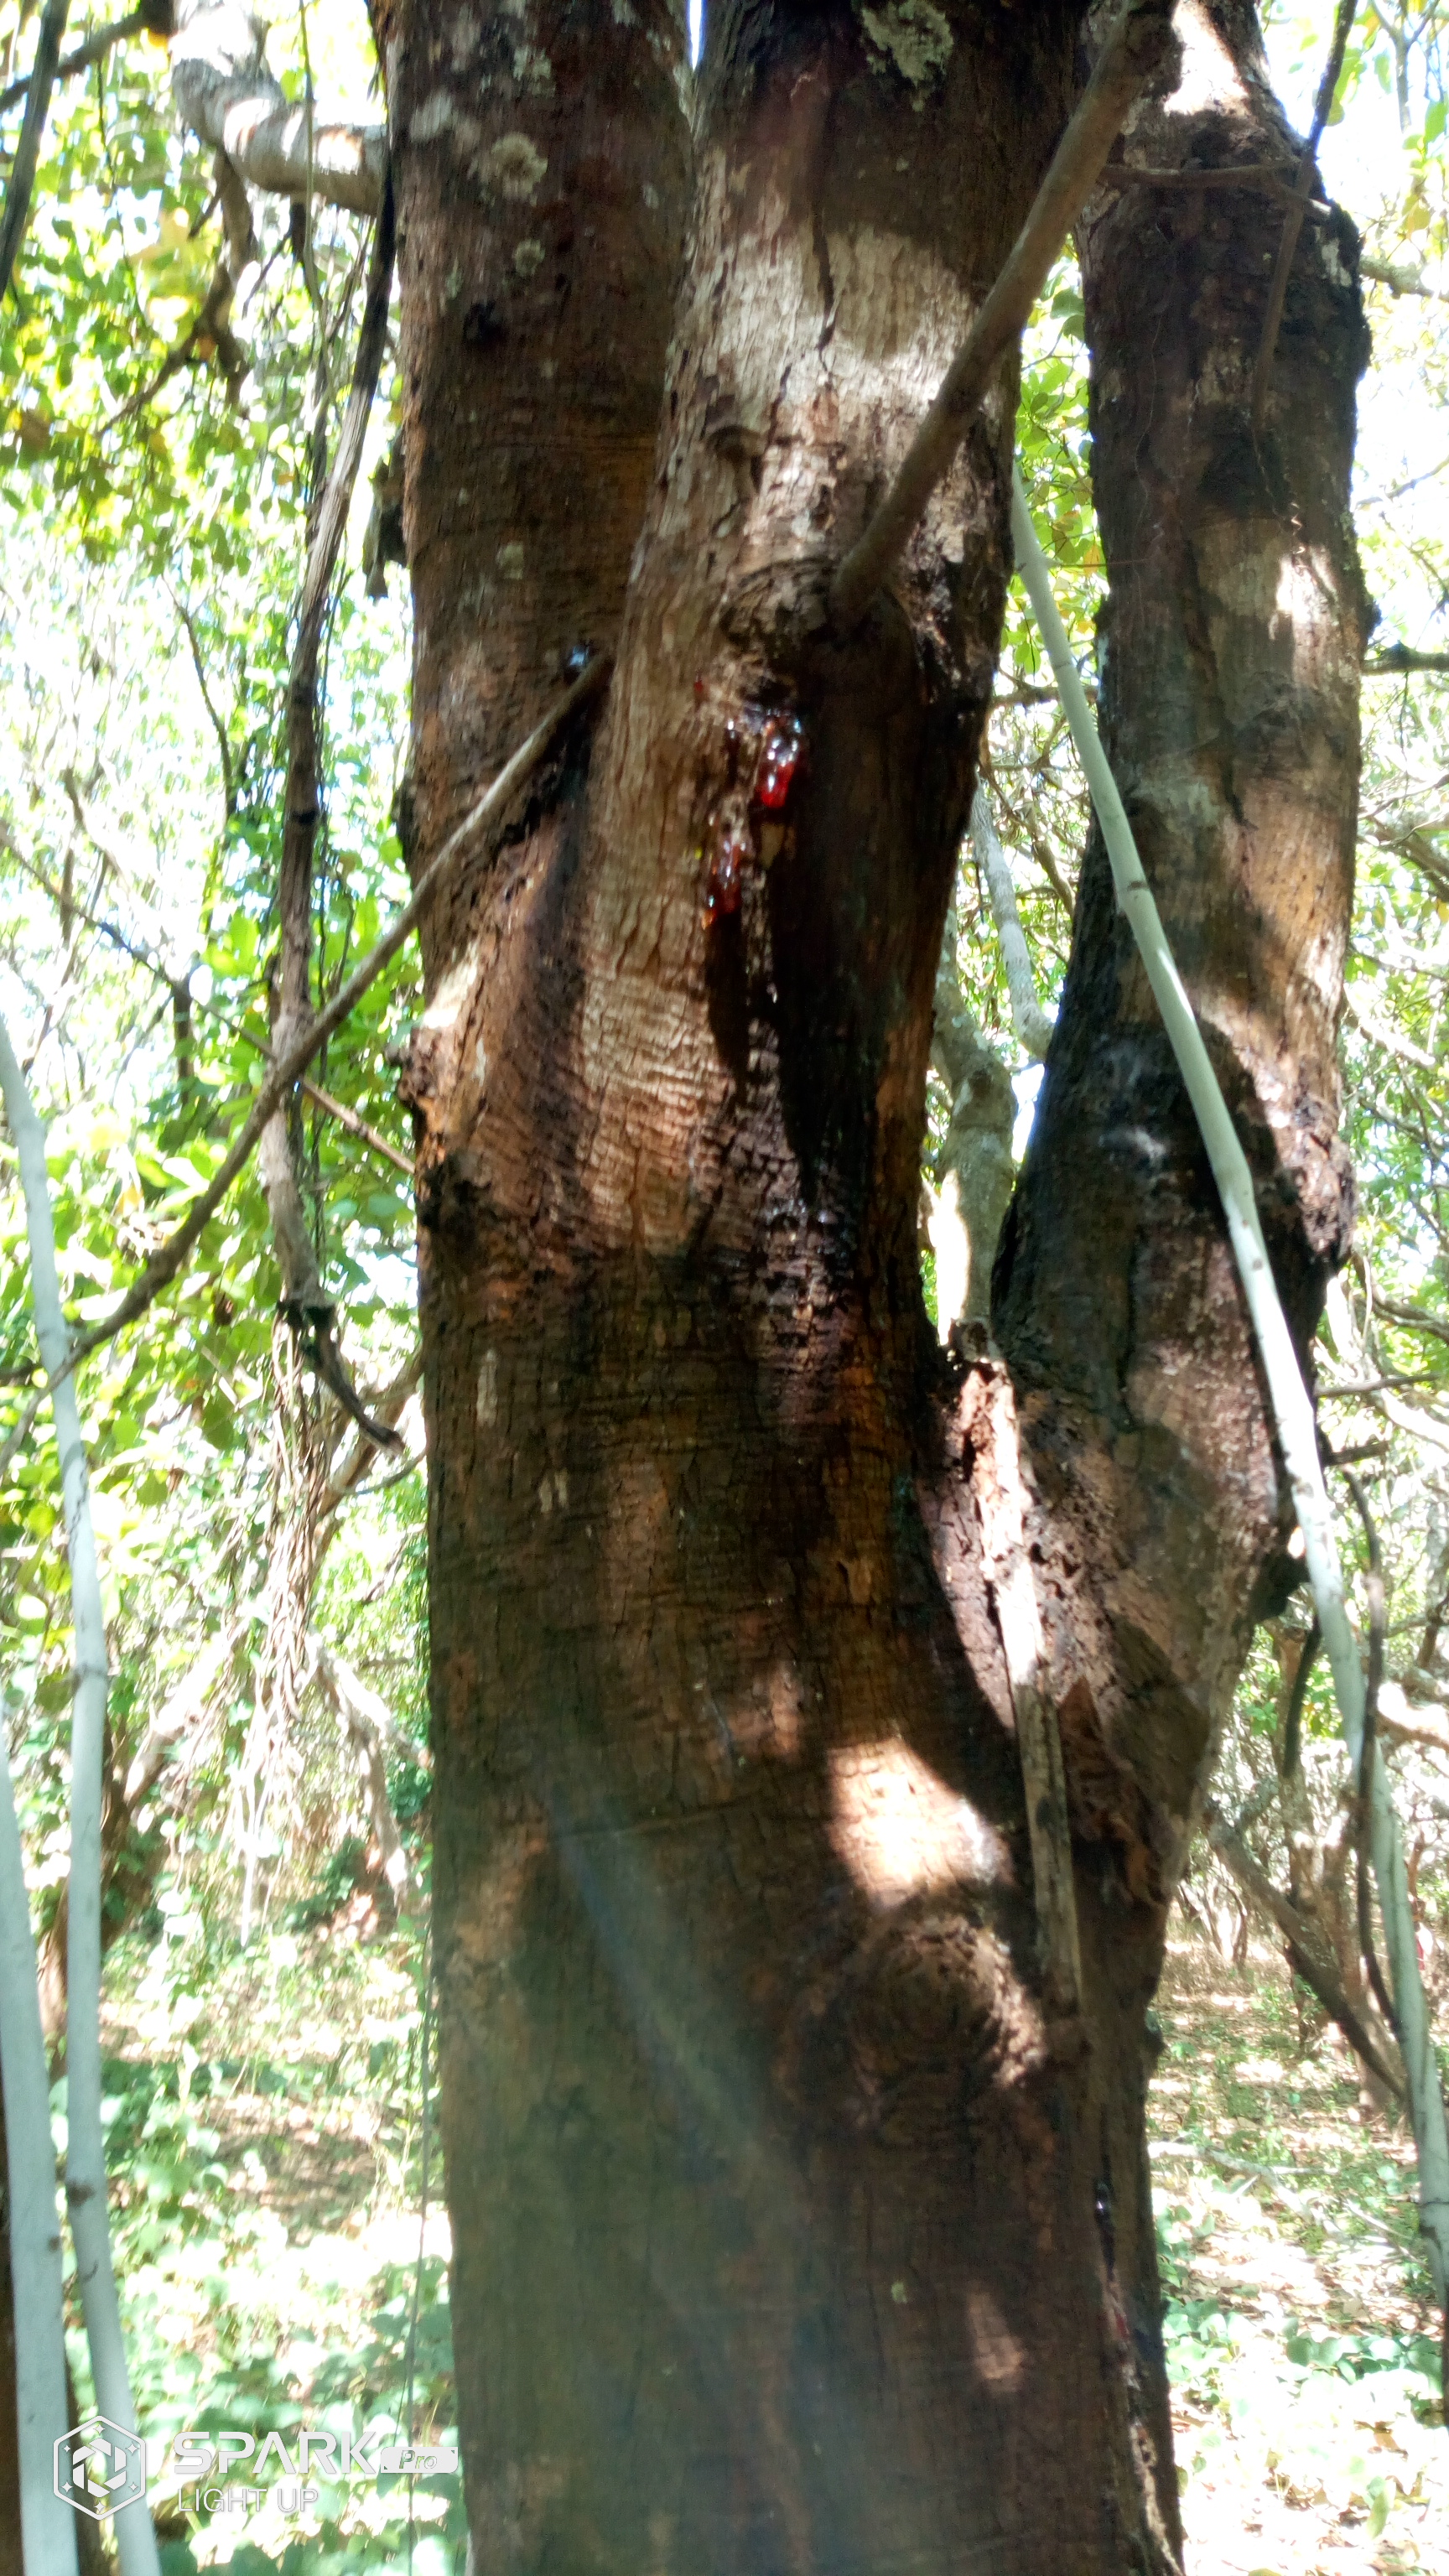Gommose: (681, 660, 948, 1431)
